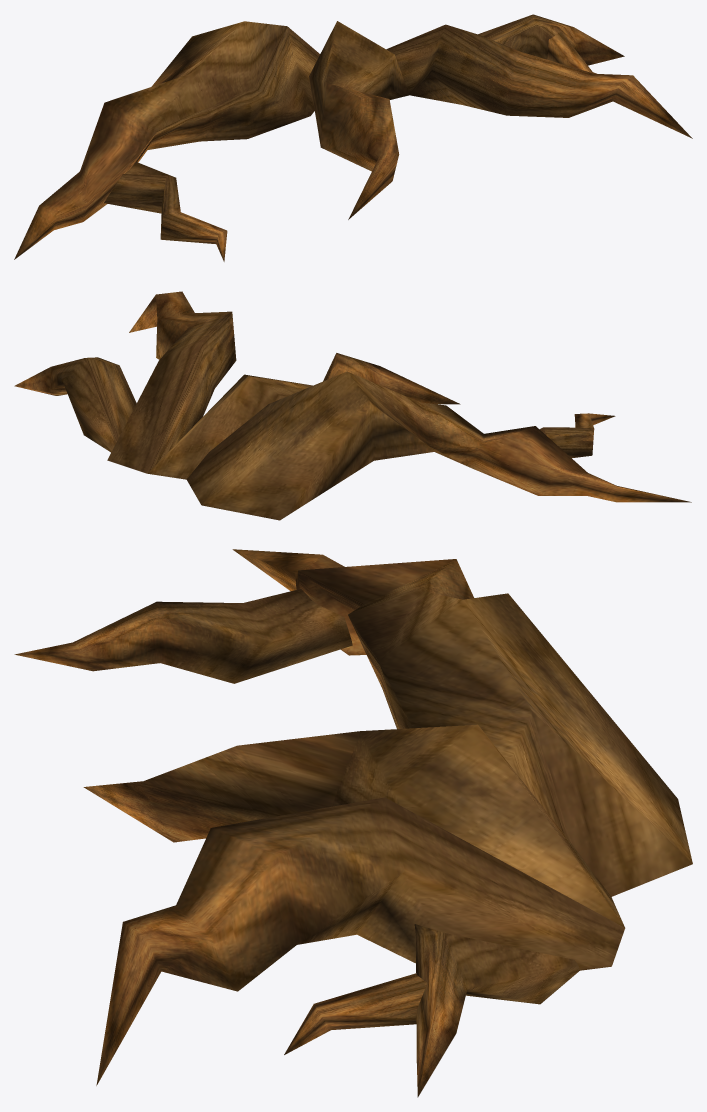
Rendered from n_treevine03.glb.
3 renders of one model, top to bottom at view 1: azimuth 30°, elevation 25°; view 2: azimuth 150°, elevation 25°; view 3: azimuth 270°, elevation 25°, orthographic. The views are drawn at different scales.
Parts seen in each view (by area): view 1: n_treevine03; view 2: n_treevine03; view 3: n_treevine03.
Boxes of the visible parts, bbox=[...] form: n_treevine03: bbox=[14, 14, 692, 261]; n_treevine03: bbox=[14, 291, 691, 520]; n_treevine03: bbox=[14, 549, 692, 1097].
Size of the model in its own units: 4.52 by 0.7879 by 2.36.
1 material, 1 textured.
